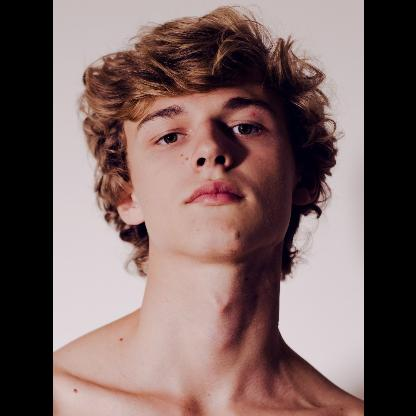Male: (112, 83, 292, 257)
